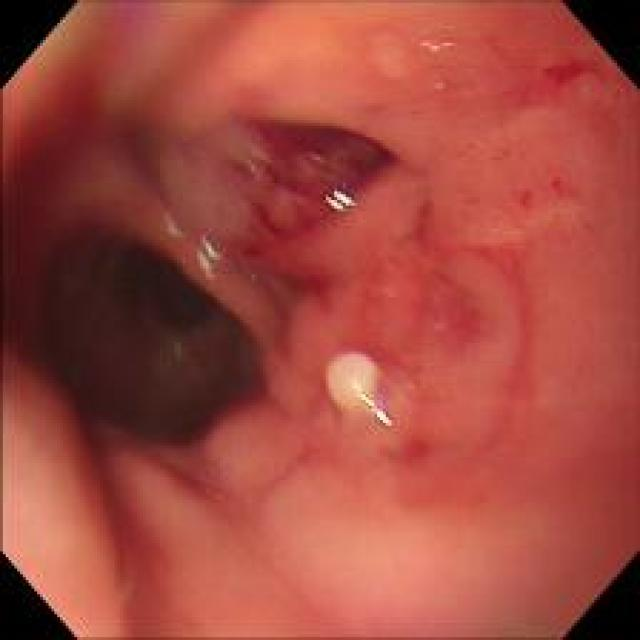blood: (222, 110, 399, 284)
blur: (5, 5, 619, 630)
color misalignment: (164, 218, 228, 278), (349, 375, 396, 435), (319, 188, 358, 219)
contrast: (55, 211, 304, 482)
specularity: (351, 376, 392, 429), (318, 188, 361, 218), (421, 40, 450, 52)
